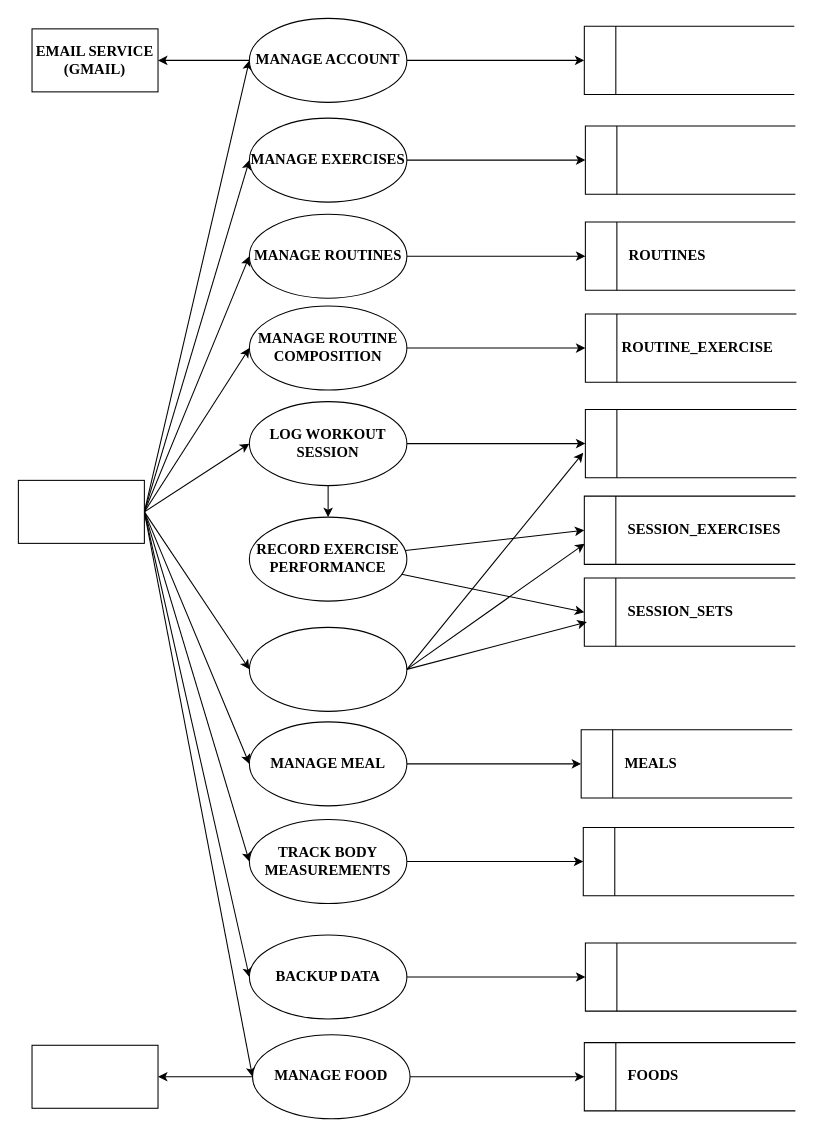
The diagram is 815 pixels wide and 1137 high, and some of its shapes have lost their labels. Each missing label, with the centre of its shape:
"BODY_MEASUREMENTS" goes at point (688, 861).
"DATA_BACKUP" goes at point (690, 976).
"EXERCISES" goes at point (689, 159).
"GEMINI API" goes at point (94, 1076).
"SESSIONS" goes at point (690, 443).
"USER" goes at point (80, 511).
"USERS" goes at point (688, 59).
"VIEW PROGRESS OVERVIEW" goes at point (327, 668).
